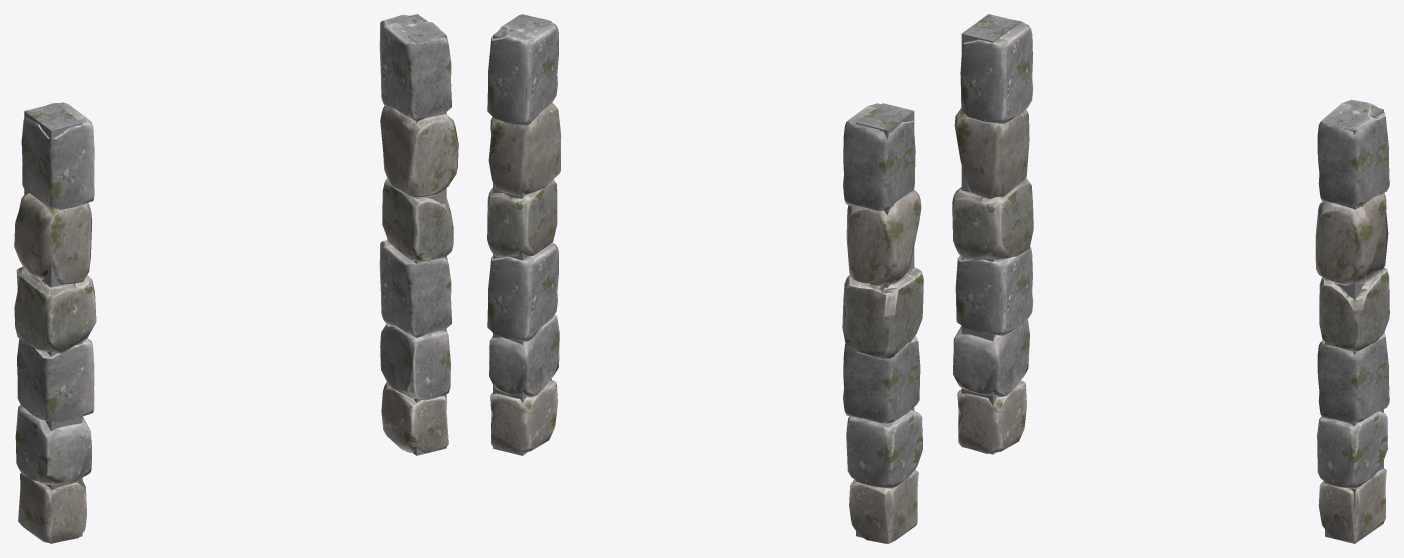
3 renders of one model, left to right at view 1: azimuth 30°, elevation 25°; view 2: azimuth 150°, elevation 25°; view 3: azimuth 330°, elevation 25°, orthographic.
Parts seen in each view (by area): view 1: SM_BB_T3_Wall_Doorframe_Double_Curved_LOD0; view 2: SM_BB_T3_Wall_Doorframe_Double_Curved_LOD0; view 3: SM_BB_T3_Wall_Doorframe_Double_Curved_LOD0.
Boxes of the visible parts, <box> form: SM_BB_T3_Wall_Doorframe_Double_Curved_LOD0: <box>14,14,458,543</box>; SM_BB_T3_Wall_Doorframe_Double_Curved_LOD0: <box>487,14,923,543</box>; SM_BB_T3_Wall_Doorframe_Double_Curved_LOD0: <box>952,14,1389,543</box>.
Bounding box in the file's own units: 3.16 × 3.04 × 0.4786.
Materials: 1 (1 with a texture image).
